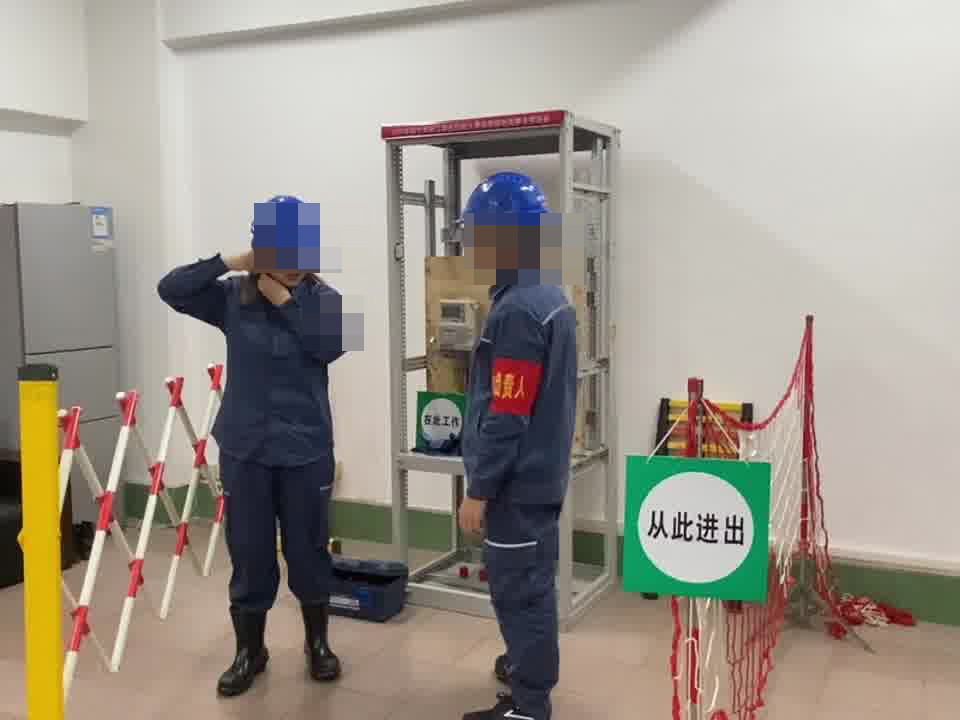badge: (489, 357, 545, 418)
downsuit: (482, 503, 565, 718), (219, 466, 337, 603)
halt: (456, 170, 554, 275), (250, 194, 325, 287)
hand: (257, 272, 289, 308), (224, 248, 268, 274), (454, 497, 483, 534)
inear: (484, 216, 524, 265)
intosign: (622, 454, 772, 603)
person: (161, 192, 368, 689), (448, 168, 583, 720)
shoe: (212, 606, 272, 696), (299, 600, 344, 683)
sleeve: (328, 303, 353, 327)
upsuit: (157, 253, 356, 457), (464, 258, 580, 497)
worksign: (412, 390, 466, 454)
